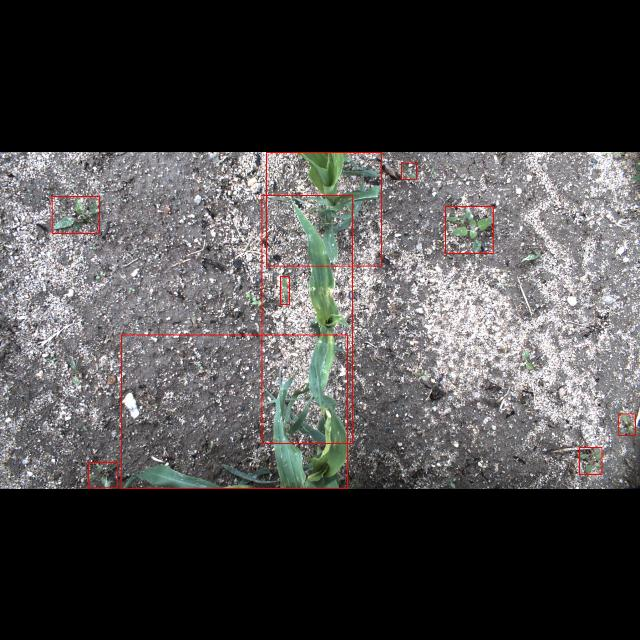crop: (120, 334, 348, 488), (262, 194, 352, 443), (266, 151, 382, 265)
weed: (445, 205, 493, 252), (52, 195, 100, 232), (88, 462, 118, 488), (580, 448, 602, 474), (618, 414, 636, 434), (280, 276, 290, 304), (402, 162, 416, 178)
